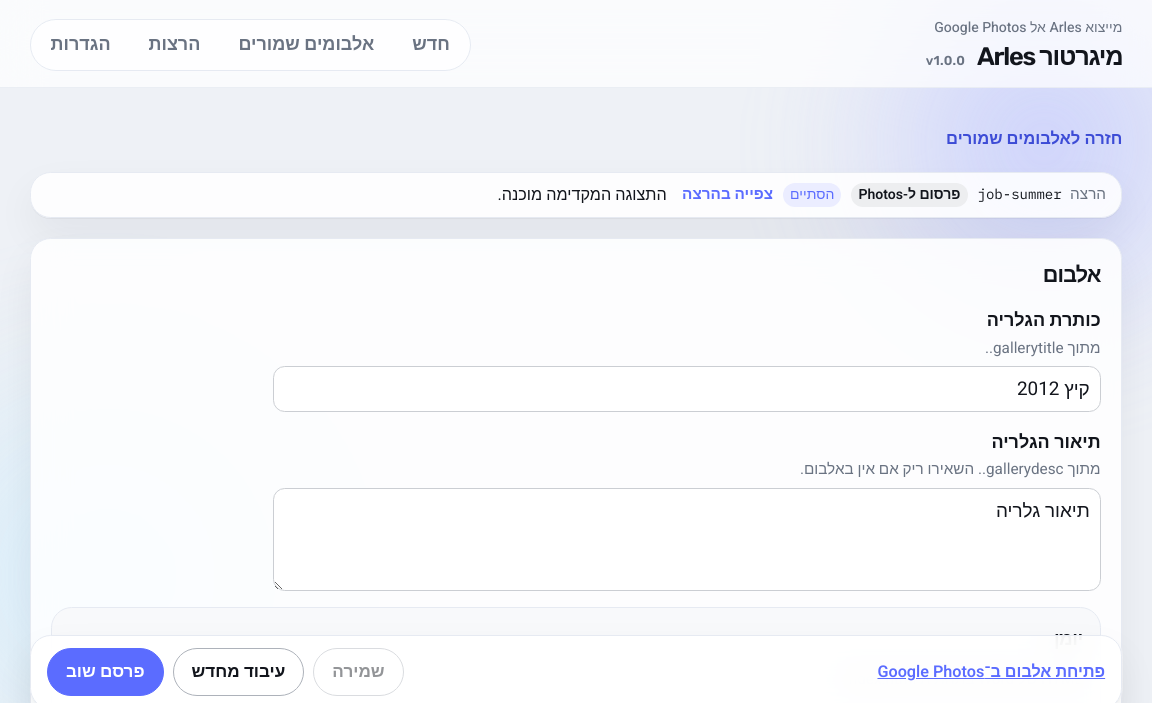
Test: App routes › enables Save after an edit and disables it again after a successful save
The width and height of the screenshot is (1152, 703).
Expected: the button "שמירה" is disabled, [313, 648, 404, 696]
Replace the text in the field labelled "כותרת הגלריה" with "קיץ מעודכן" at (687, 389), box [273, 366, 1101, 412]
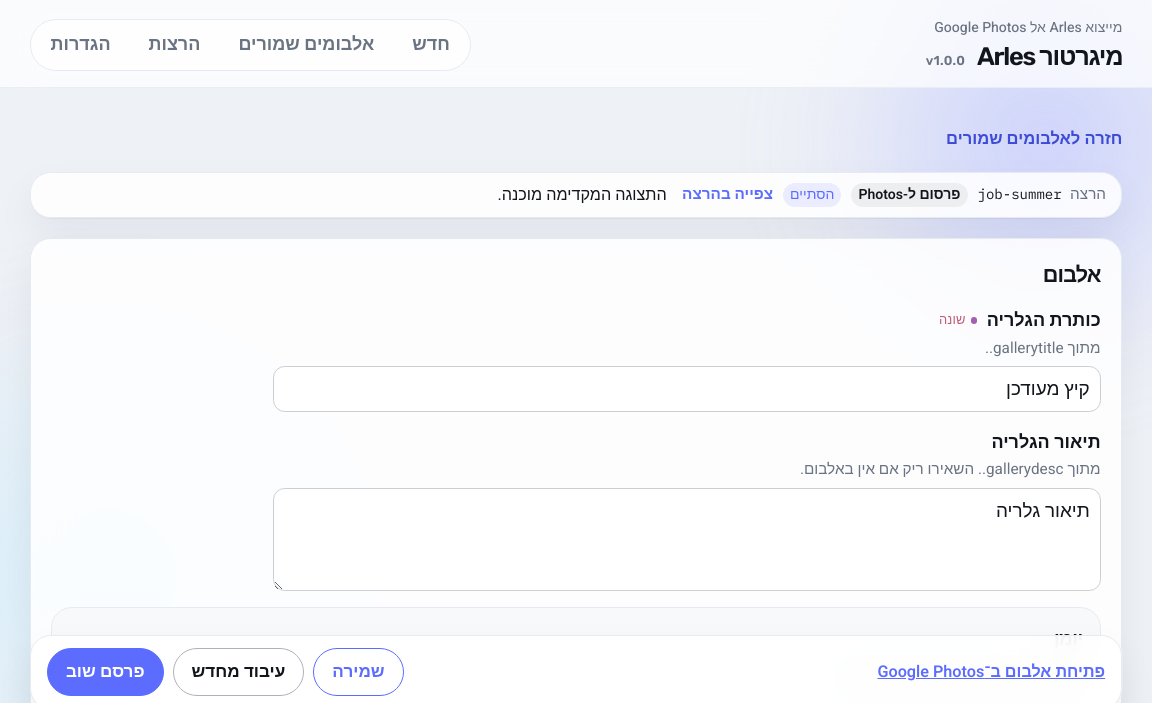
Expected: the button "שמירה" is enabled
Expected: the text "שונה" is shown, [939, 314, 966, 327]
Click the button "שמירה" at (358, 672), box [313, 648, 404, 696]
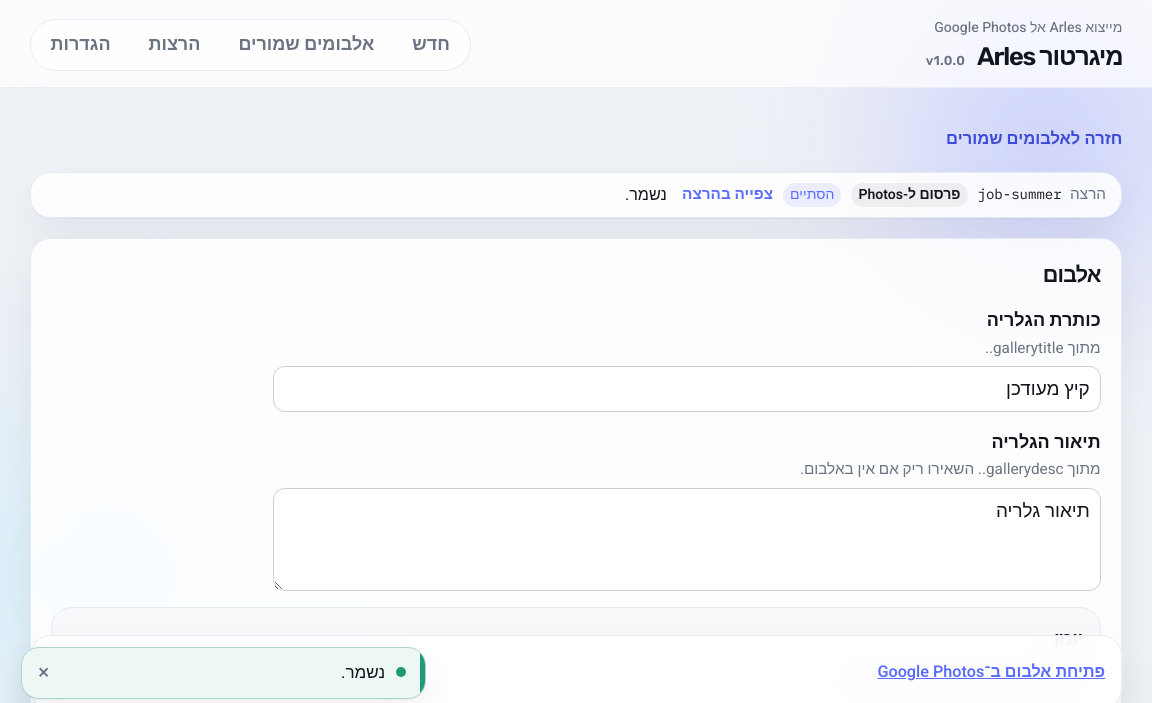
Expected: the button "שמירה" is disabled, [313, 648, 404, 696]
Expected: the text "שונה" is gone
